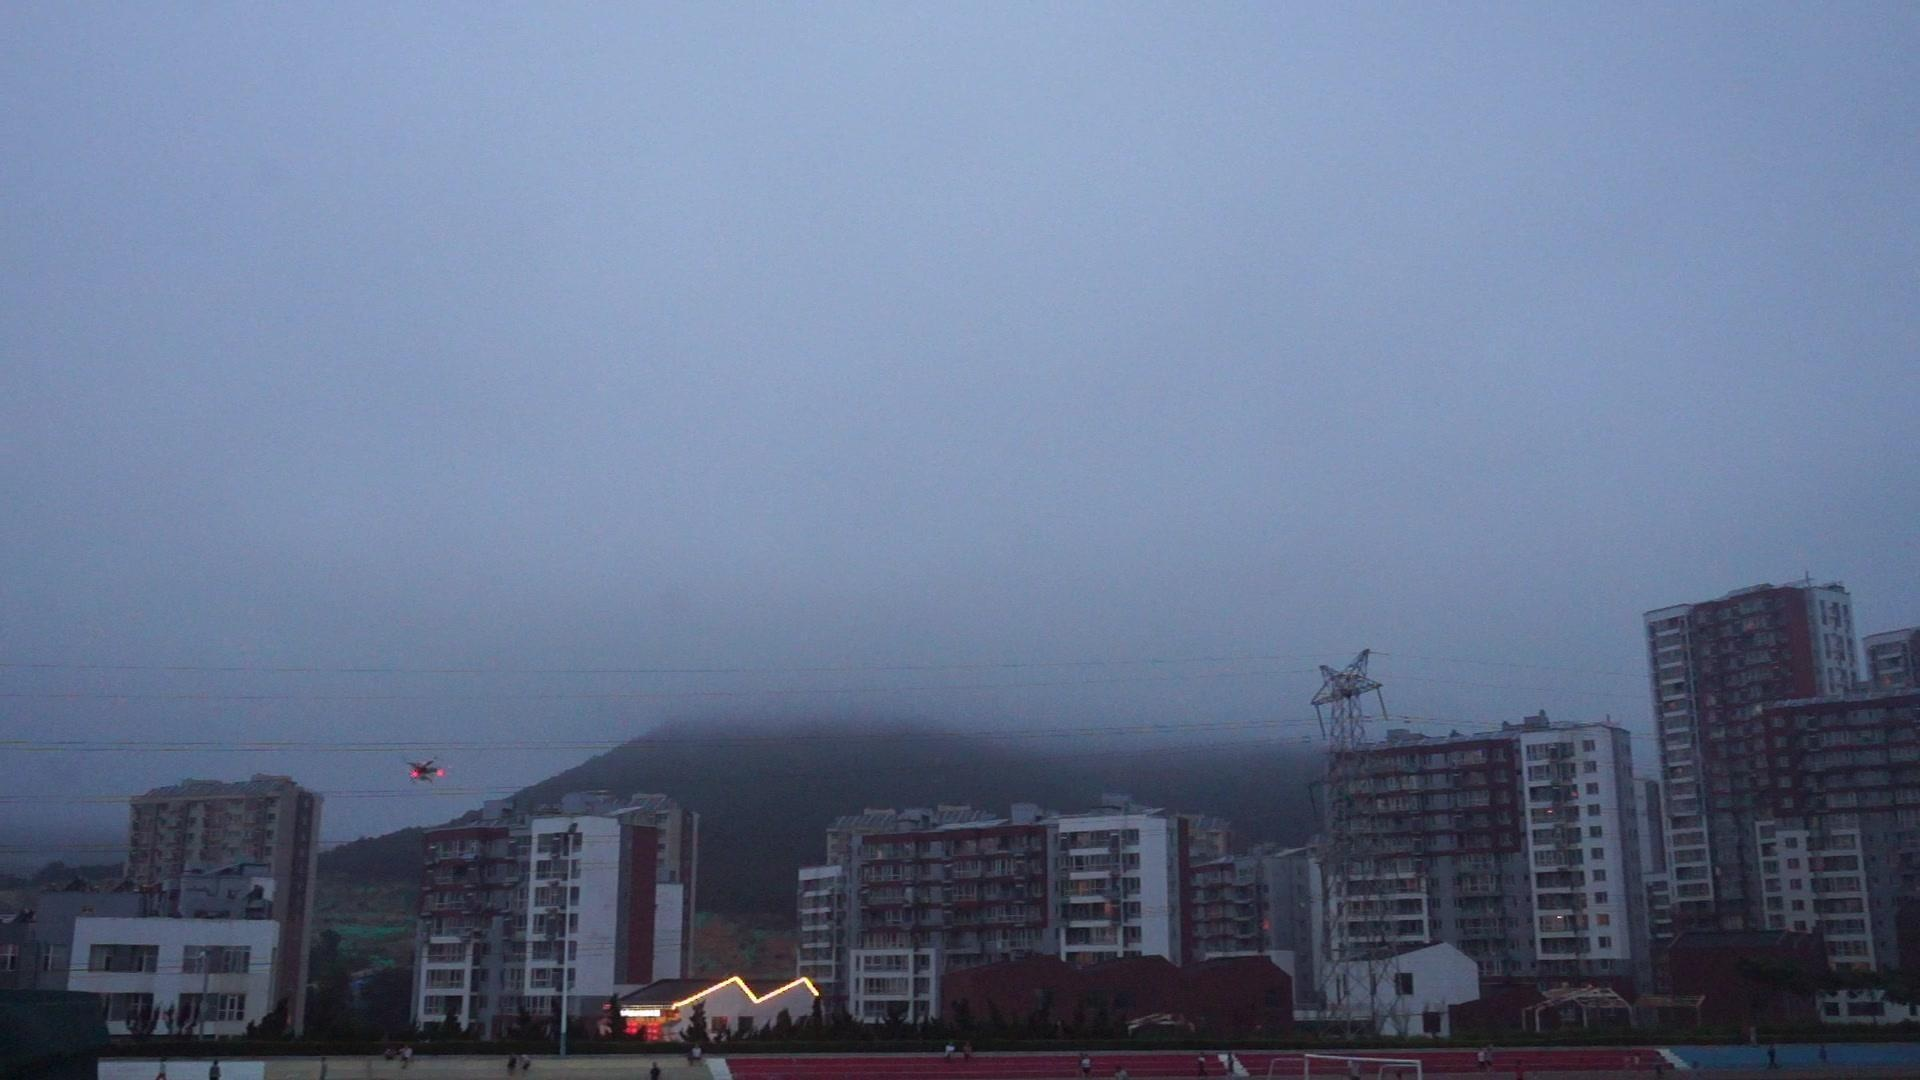UAV: (407, 761, 448, 785)
